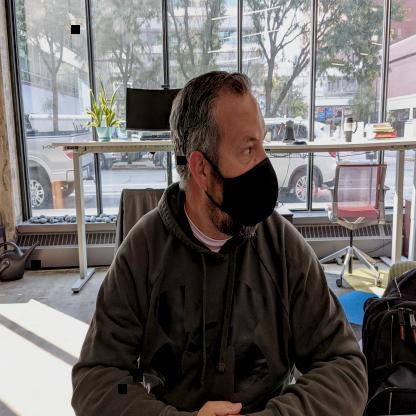mask: (199, 106, 279, 233)
